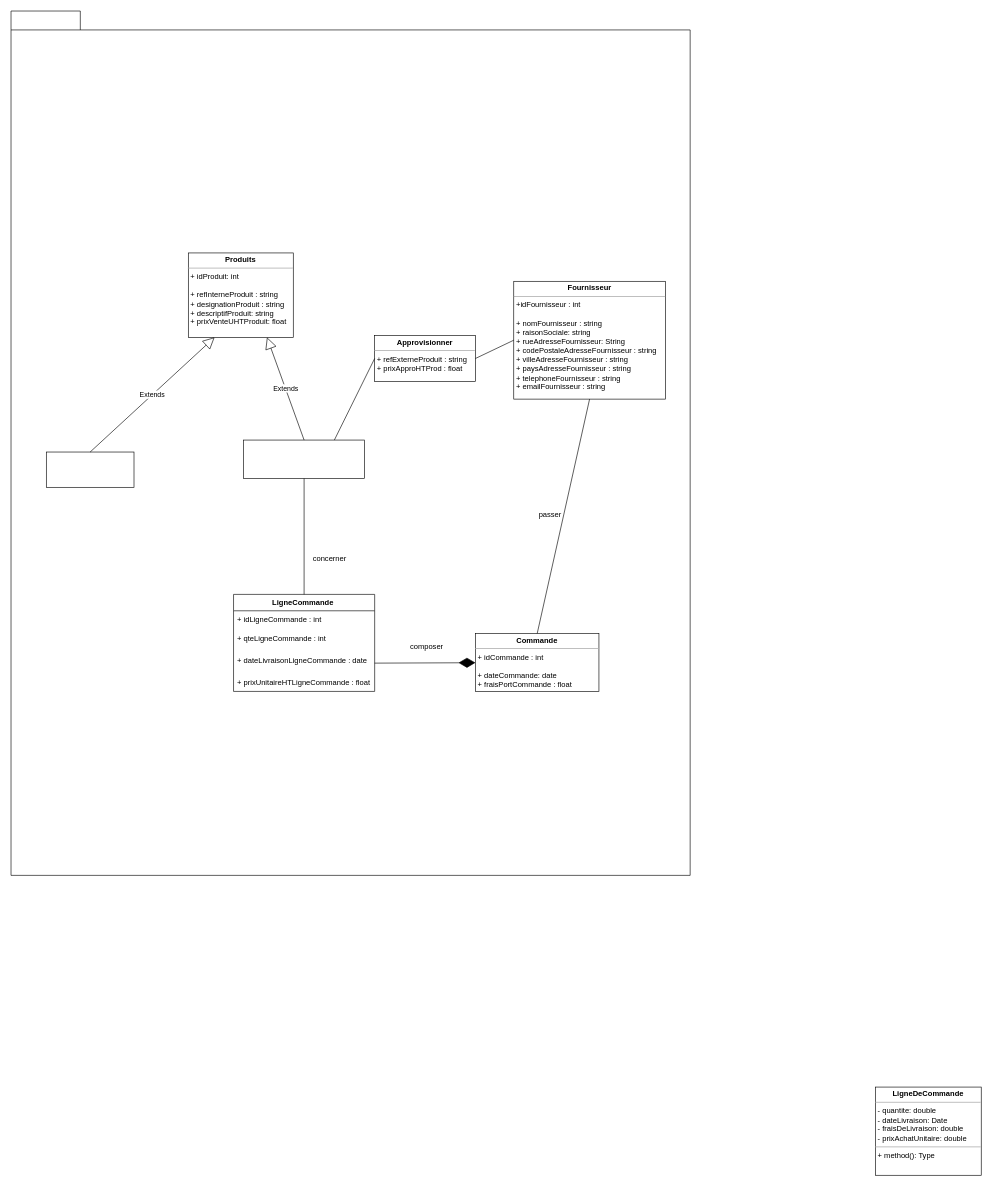
Some shapes in this 992 by 1186 pixel diagram are drawn without their labels. Here are the shapes that lost their labels. From the top down, the box of each, then its label:
(243, 439, 365, 478): ProduitAppro + prixAchatUnitaireHTMoyen: float
(10, 10, 690, 875): XPROD
(46, 451, 134, 487): ProduitFab + nbHeuresMoyen: int
